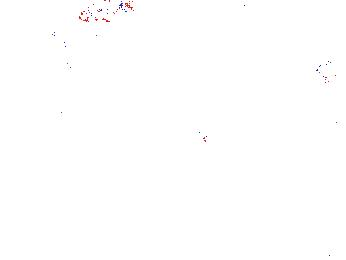X-ray fish: (310, 62, 344, 85), (188, 129, 214, 155)
redtail glassfish: (73, 1, 134, 23), (50, 23, 70, 68)
